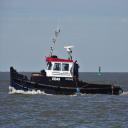tugboat: (10, 19, 125, 100)
